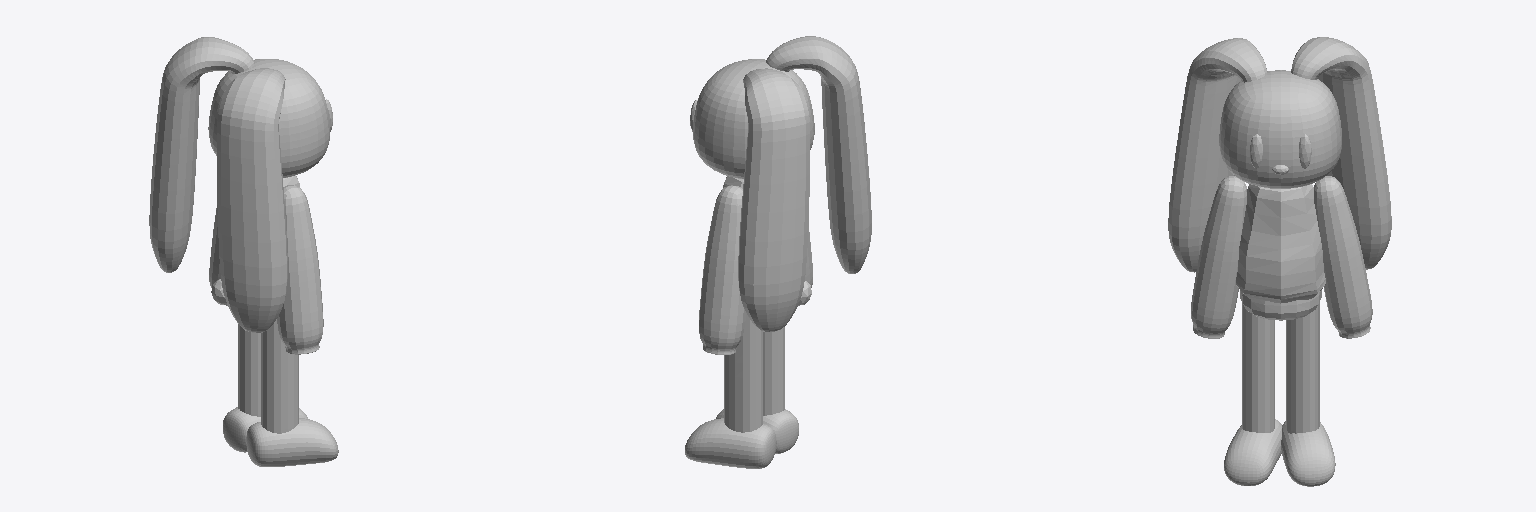
Rendered from bunny_blend.obj.
3 views of the same model, side by side, from view 1: azimuth 30°, elevation 25°; view 2: azimuth 150°, elevation 25°; view 3: azimuth 270°, elevation 25° (orthographic).
Visible parts, largest first — view 1: Cube.002_Cube.005, Cube.001_Cube.002, Cube_Cube.001, Cube.004_Cube.007, Cube.007_Cube.010, Cube.008_Cube.011, Cube.006_Cube.014, Cube.009_Cube.015, Cube.005_Cube.013; view 2: Cube.001_Cube.002, Cube.002_Cube.005, Cube.005_Cube.013, Cube_Cube.001, Cube.006_Cube.014, Cube.009_Cube.015, Cube.007_Cube.010, Cube.008_Cube.011; view 3: Cube_Cube.001, Cube.002_Cube.005, Cube.001_Cube.002, Cube.003_Cube.006, Cube.005_Cube.013, Cube.004_Cube.007, Cube.006_Cube.014, Cube.007_Cube.010, Cube.008_Cube.011, Cube.009_Cube.015, Cube.010_Cube.016.
Part boxes in pixels (left/top/right/bottom): Cube.002_Cube.005: left=217, top=68, right=287, bottom=332; Cube.001_Cube.002: left=149, top=37, right=254, bottom=272; Cube_Cube.001: left=208, top=59, right=329, bottom=177; Cube.004_Cube.007: left=277, top=185, right=323, bottom=354; Cube.007_Cube.010: left=261, top=319, right=298, bottom=433; Cube.008_Cube.011: left=246, top=418, right=338, bottom=466; Cube.006_Cube.014: left=238, top=324, right=260, bottom=416; Cube.009_Cube.015: left=223, top=407, right=307, bottom=452; Cube.005_Cube.013: left=209, top=205, right=220, bottom=287; Cube.001_Cube.002: left=738, top=68, right=809, bottom=331; Cube.002_Cube.005: left=766, top=36, right=871, bottom=273; Cube.005_Cube.013: left=699, top=185, right=745, bottom=354; Cube_Cube.001: left=693, top=59, right=814, bottom=178; Cube.006_Cube.014: left=724, top=313, right=762, bottom=432; Cube.009_Cube.015: left=685, top=418, right=776, bottom=468; Cube.007_Cube.010: left=763, top=327, right=784, bottom=415; Cube.008_Cube.011: left=716, top=409, right=798, bottom=453; Cube_Cube.001: left=1219, top=70, right=1341, bottom=188; Cube.002_Cube.005: left=1168, top=38, right=1266, bottom=272; Cube.001_Cube.002: left=1291, top=37, right=1391, bottom=269; Cube.003_Cube.006: left=1236, top=184, right=1325, bottom=303; Cube.005_Cube.013: left=1314, top=176, right=1372, bottom=338; Cube.004_Cube.007: left=1191, top=176, right=1246, bottom=338; Cube.006_Cube.014: left=1286, top=302, right=1319, bottom=433; Cube.007_Cube.010: left=1242, top=303, right=1274, bottom=432; Cube.008_Cube.011: left=1224, top=419, right=1281, bottom=485; Cube.009_Cube.015: left=1281, top=421, right=1335, bottom=486; Cube.010_Cube.016: left=1240, top=290, right=1321, bottom=320.
Size of the model in its own units: 2.63 by 7.38 by 3.67.